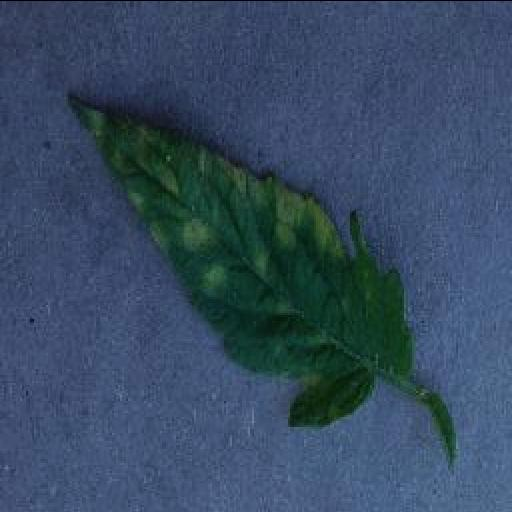disease_tomato: (66, 94, 414, 426)
